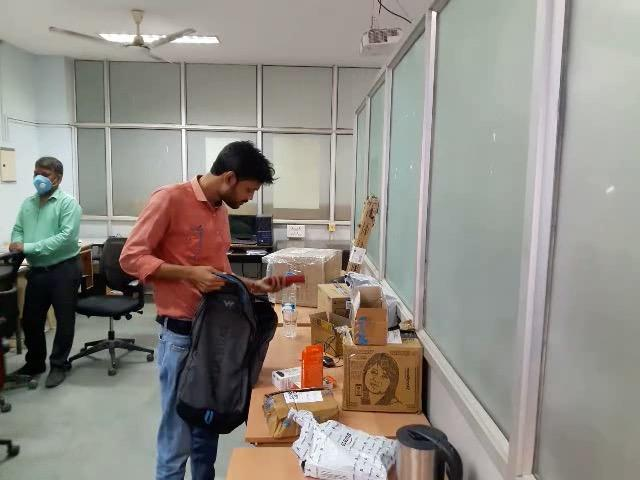shoplifting: (138, 228, 308, 456)
